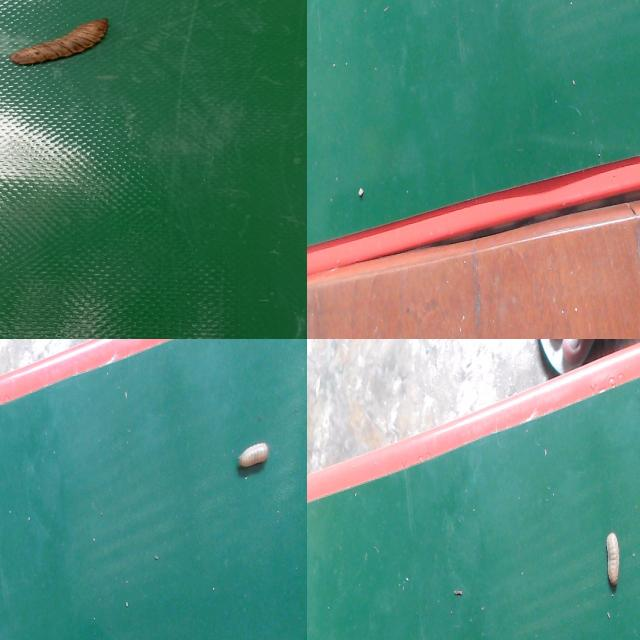Maggot: (9, 19, 109, 68), (236, 441, 272, 478), (604, 532, 623, 595)
